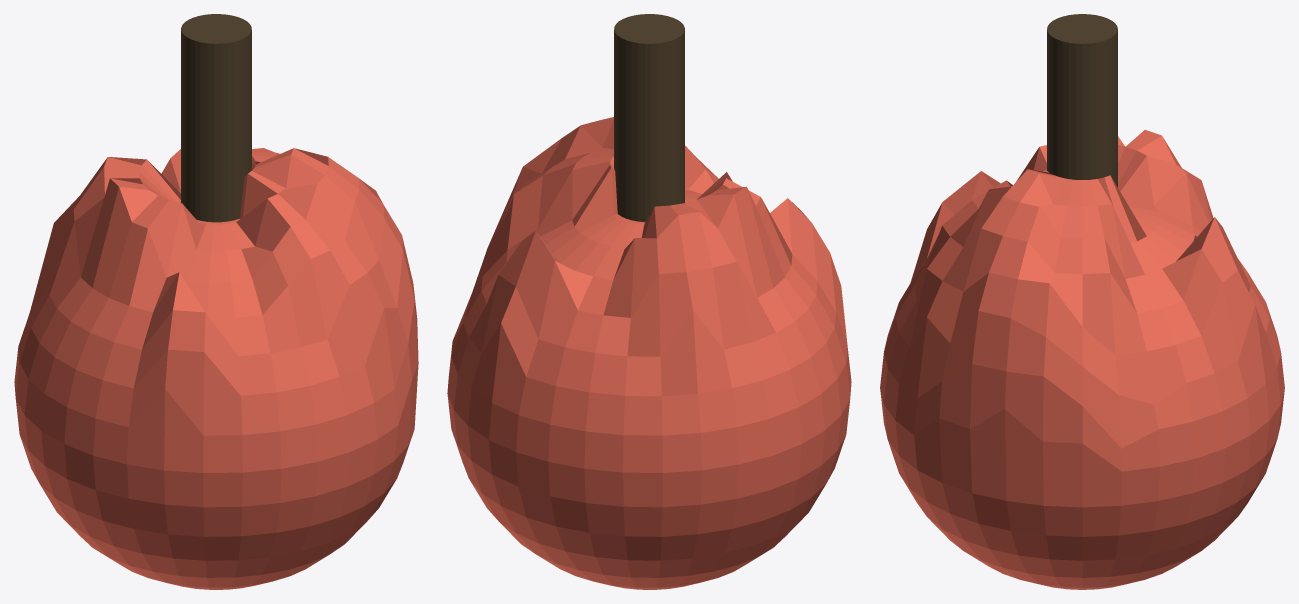
File: BurntBerry.fbx
3 renders of one model, left to right at view 1: azimuth 30°, elevation 25°; view 2: azimuth 150°, elevation 25°; view 3: azimuth 270°, elevation 25°, orthographic.
Parts seen in each view (by area): view 1: Sphere; view 2: Sphere; view 3: Sphere.
Part boxes in pixels (x1,y1,x2,y2): Sphere: (14,14,418,589); Sphere: (447,14,851,589); Sphere: (880,14,1284,589).
Size of the model in its own units: 200 by 296 by 200.
